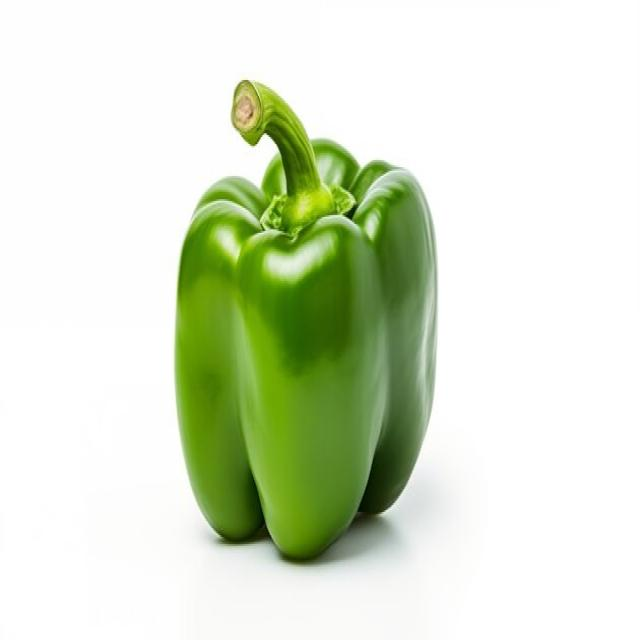Bell Pepper: (173, 76, 439, 560)
